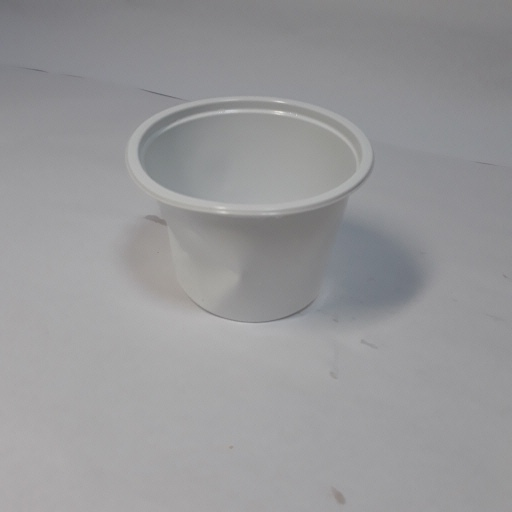Plastic_5: (124, 96, 381, 323)
